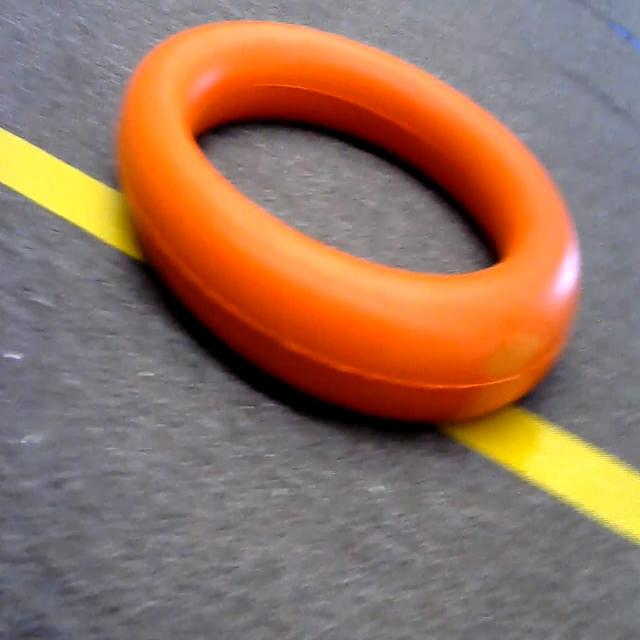note: (100, 8, 591, 441)
